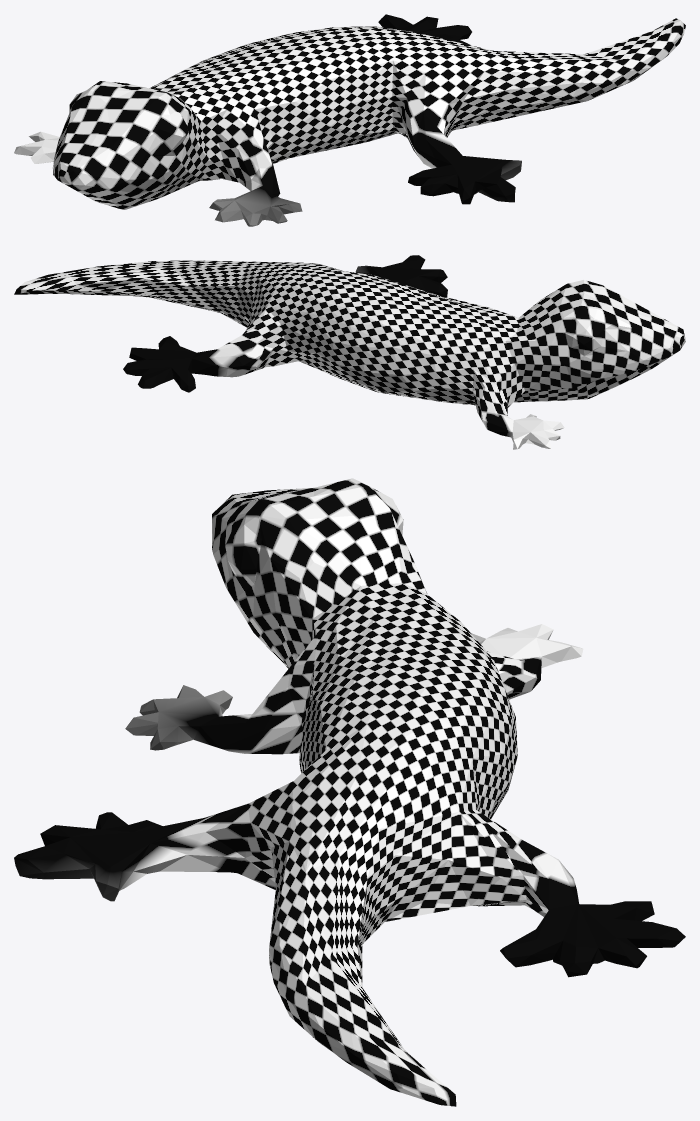
Rendered from gecko.obj.
3 renders of one model, top to bottom at view 1: azimuth 30°, elevation 25°; view 2: azimuth 150°, elevation 25°; view 3: azimuth 270°, elevation 25°, orthographic. The views are drawn at different scales.
Size of the model in its own units: 77.72 by 12.29 by 43.4.
